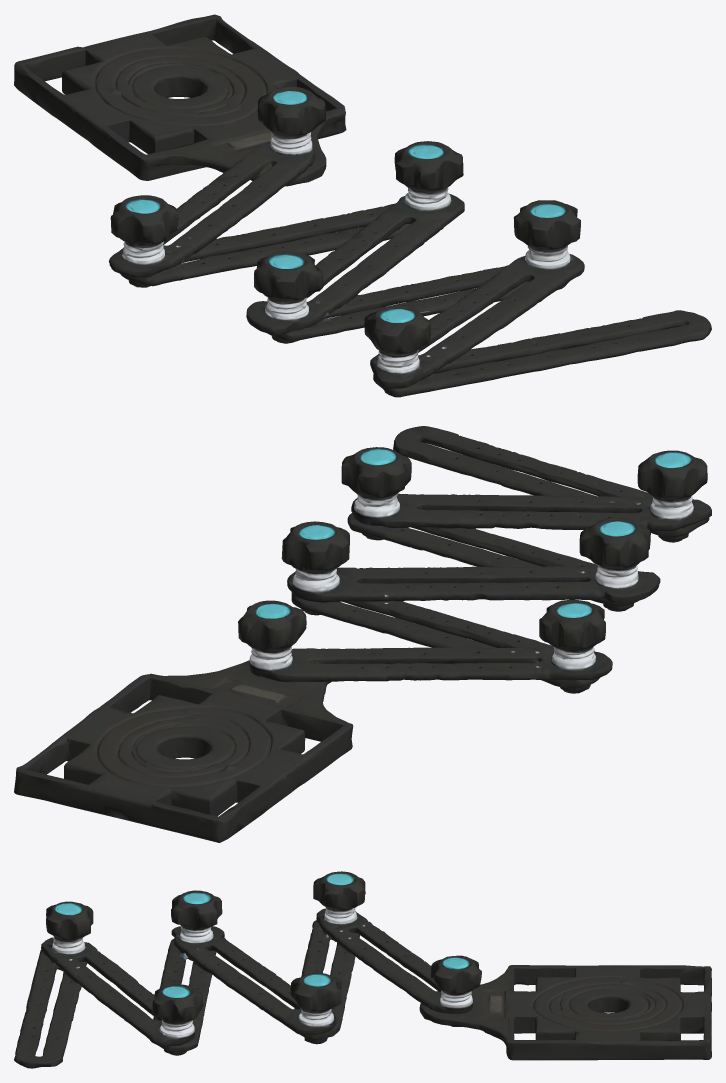
File: drill-position-scale.glb
3 views of the same model, one above another, from view 1: azimuth 30°, elevation 25°; view 2: azimuth 150°, elevation 25°; view 3: azimuth 270°, elevation 25° (orthographic). The views are drawn at different scales.
Parts seen in each view (by area): view 1: tripo_node_4f5eba52-d31a-479e-b2e1-dedc8919c5f5; view 2: tripo_node_4f5eba52-d31a-479e-b2e1-dedc8919c5f5; view 3: tripo_node_4f5eba52-d31a-479e-b2e1-dedc8919c5f5.
Part boxes in pixels (bbox=[...]): tripo_node_4f5eba52-d31a-479e-b2e1-dedc8919c5f5: bbox=[14, 14, 711, 397]; tripo_node_4f5eba52-d31a-479e-b2e1-dedc8919c5f5: bbox=[14, 426, 711, 842]; tripo_node_4f5eba52-d31a-479e-b2e1-dedc8919c5f5: bbox=[14, 871, 711, 1068].
Size of the model in its own units: 0.5123 by 0.1012 by 1.
1 material, 1 textured.
